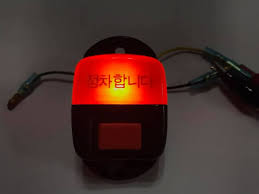bell: (70, 41, 169, 173)
